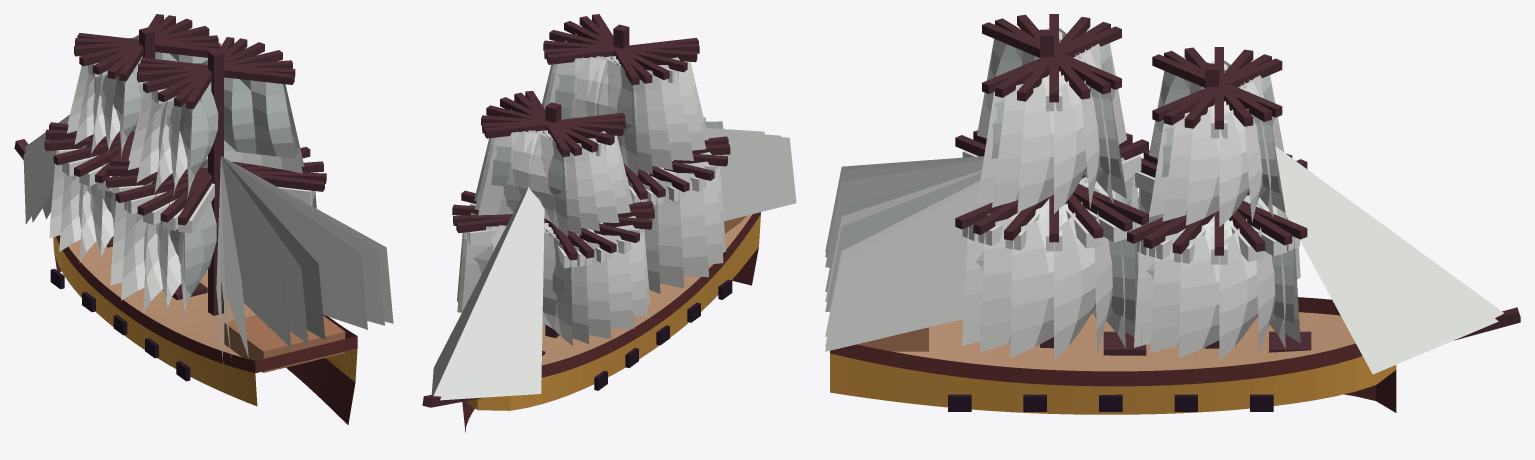
File: ship.brig.glb
The picture shows the model from 3 angles, left to right: view 1: azimuth 30°, elevation 25°; view 2: azimuth 150°, elevation 25°; view 3: azimuth 270°, elevation 25°; orthographic projection. The views are drawn at different scales.
Visible parts, largest first — view 1: hull, full_broad_p_spanker, full_irons_s0_spanker, bulwark, full_irons_p0_main_top, cabin, full_beam_p_spanker, full_irons_p0_spanker, main, full_run_spanker, full_irons_p1_main_top, full_broad_s_spanker (+54 smaller); view 2: full_close_s_jib, hull, full_close_s_spanker, bulwark, full_run_main_course, full_beam_p_fore_course, full_broad_p_main_course, full_broad_p_main_top, full_broad_p_fore_top, full_run_fore_course, full_beam_p_main_top, full_broad_p_fore_course (+48 smaller); view 3: hull, full_close_p_jib, full_close_p_spanker, bulwark, full_broad_p_main_course, full_run_main_course, full_broad_p_fore_course, full_beam_p_main_course, full_broad_p_main_top, full_run_fore_course, full_run_main_top, full_beam_p_fore_course (+51 smaller).
Part boxes in pixels (<box>): hull: <box>53,236,357,424</box>; full_broad_p_spanker: <box>221,156,367,329</box>; full_irons_s0_spanker: <box>221,156,291,347</box>; bulwark: <box>56,235,357,373</box>; full_irons_p0_main_top: <box>179,79,295,158</box>; cabin: <box>224,315,345,372</box>; full_beam_p_spanker: <box>223,157,384,325</box>; full_irons_p0_spanker: <box>221,156,325,339</box>; main: <box>208,49,223,315</box>; full_run_spanker: <box>222,157,308,343</box>; full_irons_p1_main_top: <box>160,77,256,154</box>; full_broad_s_spanker: <box>221,157,248,357</box>; full_close_s_jib: <box>433,187,544,400</box>; hull: <box>462,214,760,432</box>; full_close_s_spanker: <box>706,130,796,221</box>; bulwark: <box>541,212,760,377</box>; full_run_main_course: <box>647,172,708,277</box>; full_beam_p_fore_course: <box>542,232,588,343</box>; full_broad_p_main_course: <box>655,179,684,288</box>; full_broad_p_main_top: <box>575,33,672,170</box>; full_broad_p_fore_top: <box>511,109,599,231</box>; full_run_fore_course: <box>544,228,634,328</box>; full_beam_p_main_top: <box>601,56,652,174</box>; full_broad_p_fore_course: <box>544,230,611,338</box>; hull: <box>830,312,1396,414</box>; full_close_p_jib: <box>1275,146,1503,374</box>; full_close_p_spanker: <box>825,185,992,351</box>; bulwark: <box>830,297,1362,386</box>; full_broad_p_main_course: <box>1010,184,1088,357</box>; full_run_main_course: <box>1054,176,1095,359</box>; full_broad_p_fore_course: <box>1178,202,1269,357</box>; full_beam_p_main_course: <box>979,181,1121,351</box>; full_broad_p_main_top: <box>1017,49,1087,212</box>; full_run_fore_course: <box>1219,218,1257,359</box>; full_run_main_top: <box>1054,28,1086,213</box>; full_beam_p_fore_course: <box>1150,197,1283,352</box>.
Size of the model in its own units: 1.12 by 1.78 by 2.95.
